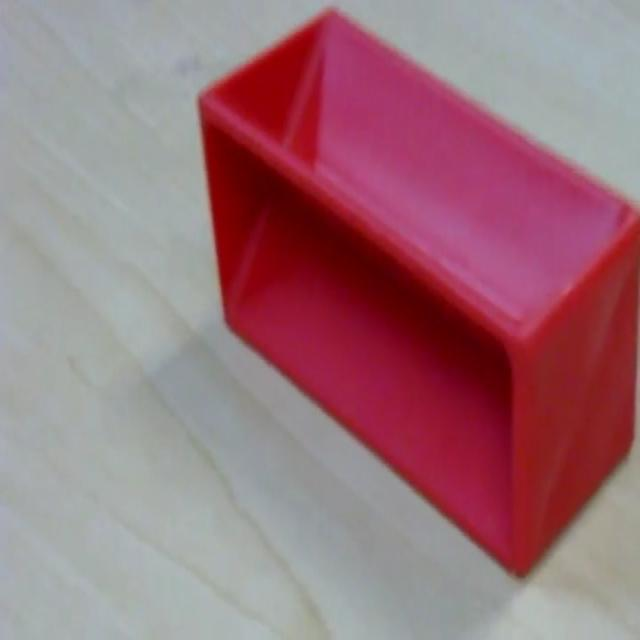red_block: (195, 5, 638, 579)
